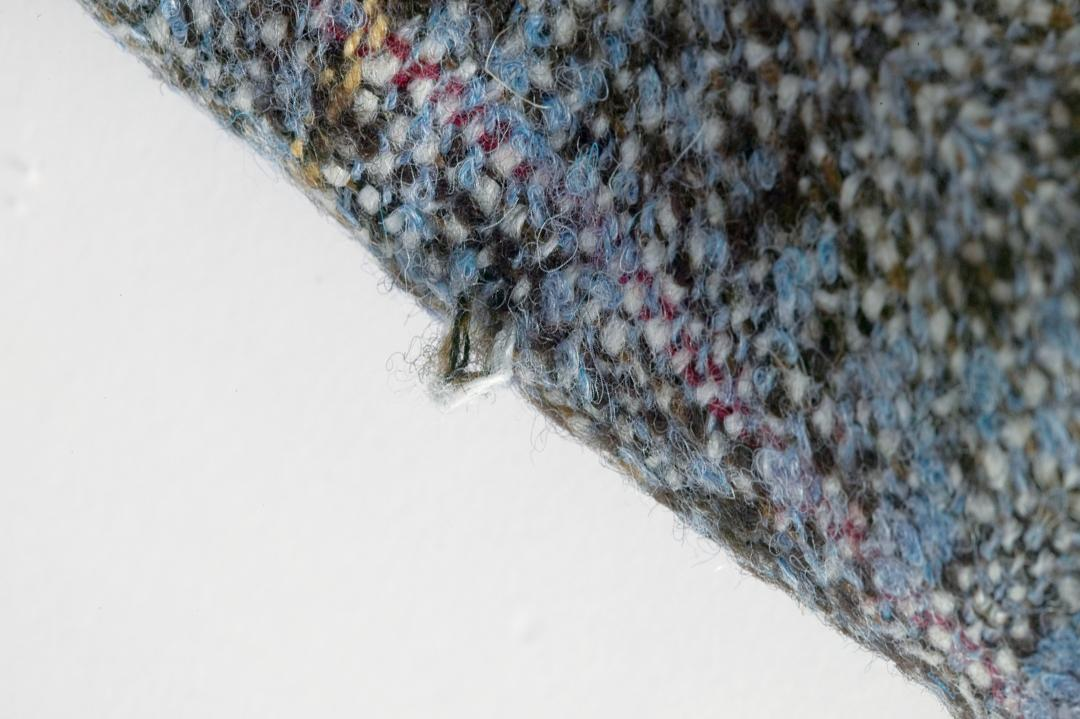snag: (402, 247, 542, 429)
